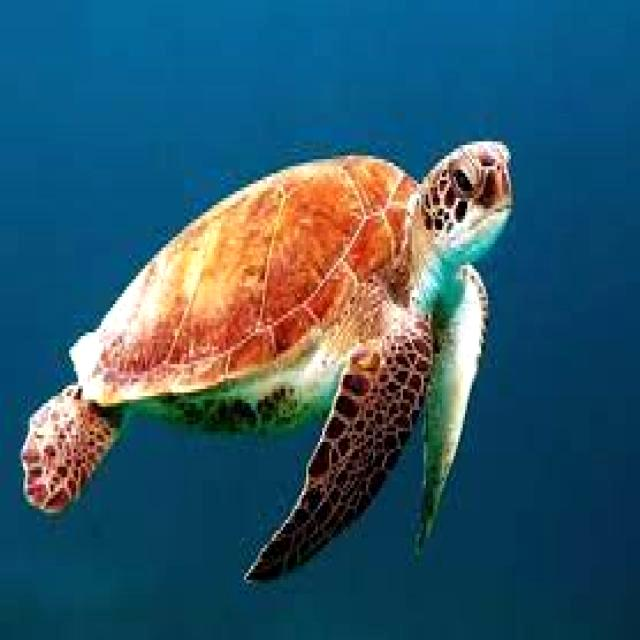Sea turtle: (19, 140, 509, 587)
